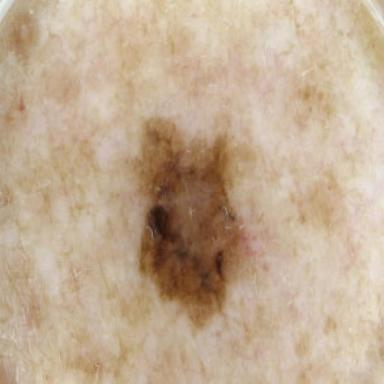Melanoma: (140, 121, 245, 325)
